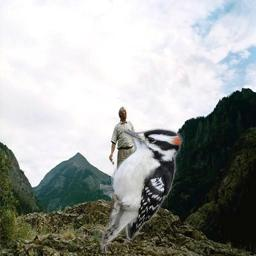Woodpecker: (100, 123, 188, 253)
